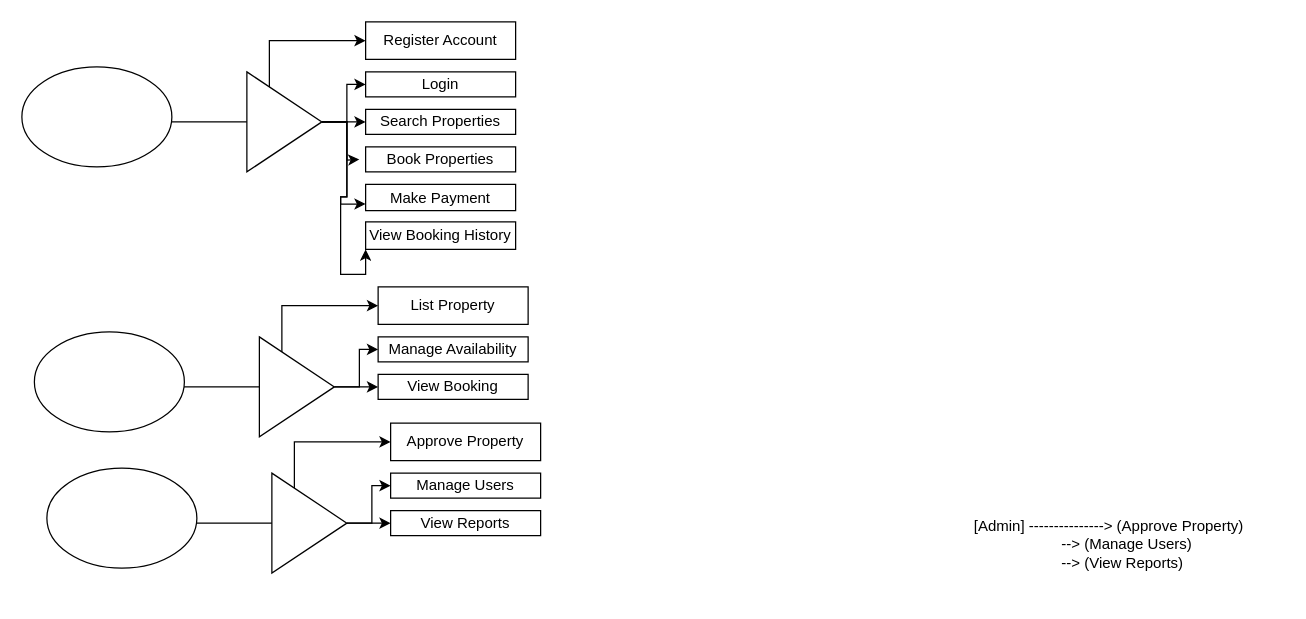
The diagram is 1306 pixels wide and 619 high, and some of its shapes have lost their labels. Each missing label, with the centre of its shape:
"Admin" belongs at pixel 121 517.
"Property Owner" belongs at pixel 108 381.
"User" belongs at pixel 96 116.
